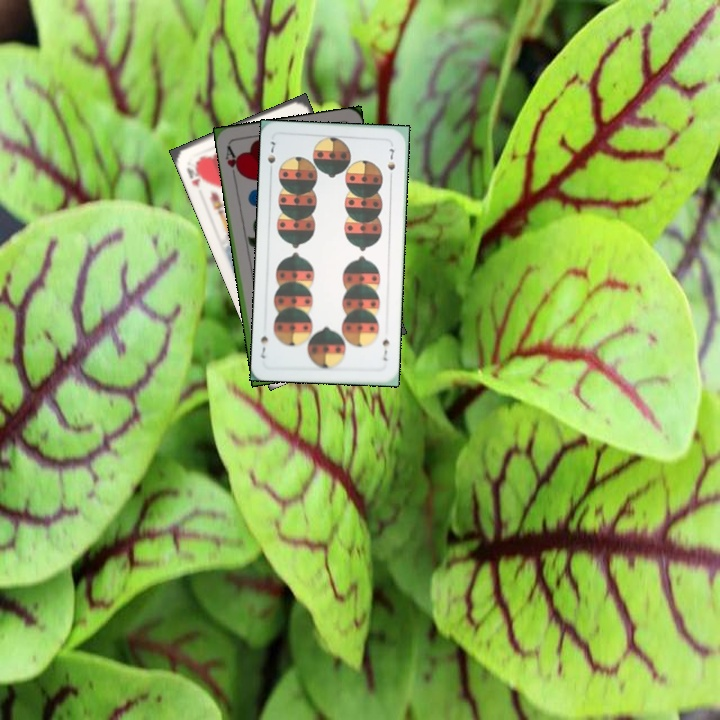HA: (221, 142, 244, 181)
HK: (183, 158, 207, 190)
S7: (264, 137, 278, 176), (378, 333, 392, 363)
